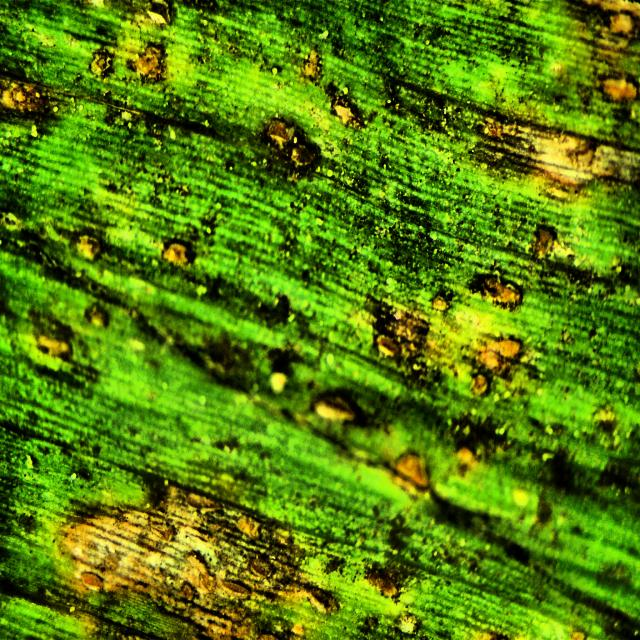common_rust: (9, 2, 640, 640)
